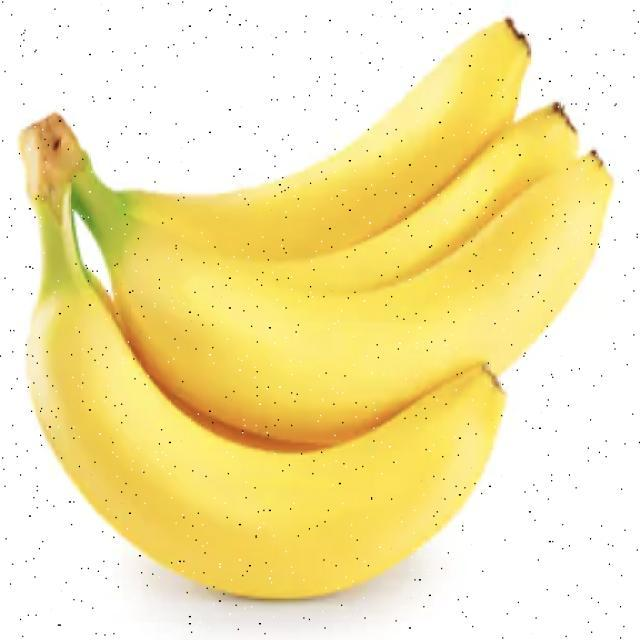Banana: (17, 15, 613, 600)
